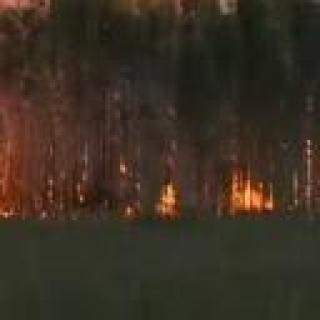fire: (225, 171, 278, 217), (149, 183, 184, 213), (0, 72, 3, 217)
